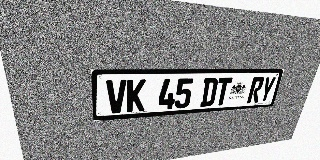4: (158, 78, 177, 110)
5: (174, 78, 194, 109)
D: (200, 78, 219, 107)
K: (127, 79, 146, 112)
R: (247, 77, 265, 103)
T: (214, 77, 233, 106)
V: (106, 79, 126, 114)
Y: (258, 77, 277, 102)
